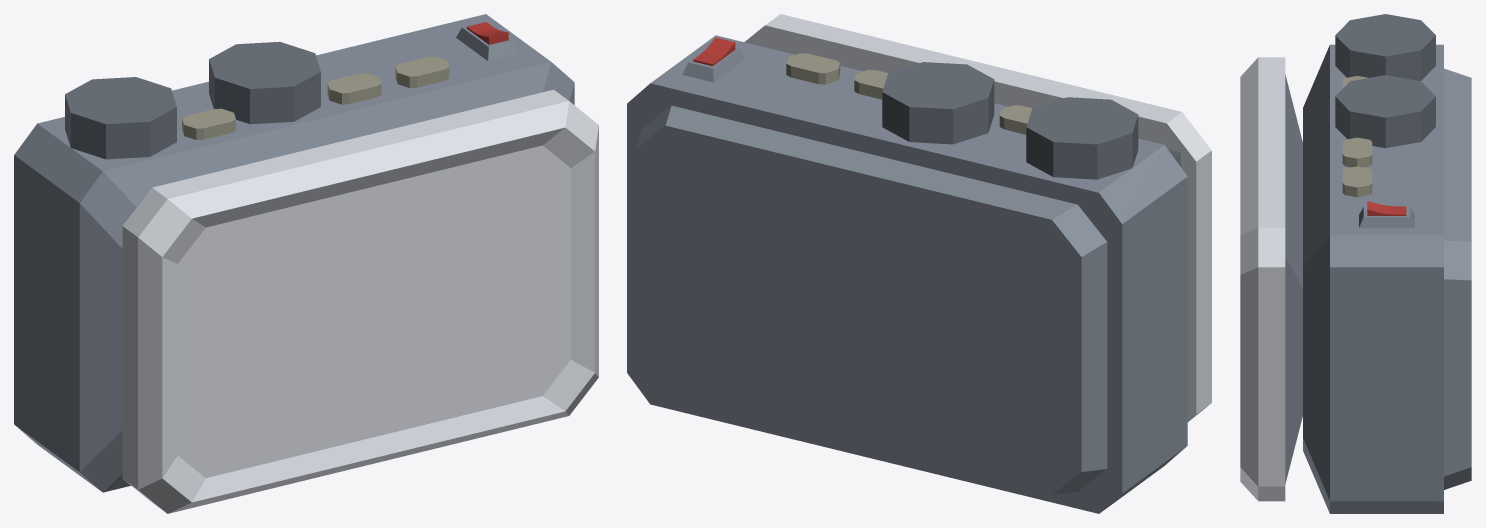
File: machine_hot_plate.obj
3 views of the same model, side by side, from view 1: azimuth 30°, elevation 25°; view 2: azimuth 150°, elevation 25°; view 3: azimuth 270°, elevation 25° (orthographic). The views are drawn at different scales.
Visible parts, largest first — view 1: Cube.444, Cube.445, Cube.446, Cube.444_1; view 2: Cube.444, Cube.445, Cube.446, Cube.444_1, Cube.447; view 3: Cube.444, Cube.446, Cube.445, Cube.444_1, Cube.447.
Part boxes in pixels (<box>): Cube.444: <box>14,14,598,513</box>; Cube.445: <box>65,77,176,159</box>; Cube.446: <box>209,41,320,124</box>; Cube.444_1: <box>182,56,449,139</box>; Cube.444: <box>627,14,1211,513</box>; Cube.445: <box>1026,97,1138,179</box>; Cube.446: <box>882,62,994,144</box>; Cube.444_1: <box>786,53,1032,134</box>; Cube.447: <box>693,37,735,66</box>; Cube.444: <box>1240,44,1471,513</box>; Cube.446: <box>1335,75,1435,148</box>; Cube.445: <box>1335,14,1435,80</box>; Cube.444_1: <box>1342,76,1372,197</box>; Cube.447: <box>1367,201,1406,215</box>.
Size of the model in its own units: 0.3921 by 0.2697 by 0.1824.
Materials: 2 (1 with a texture image).
